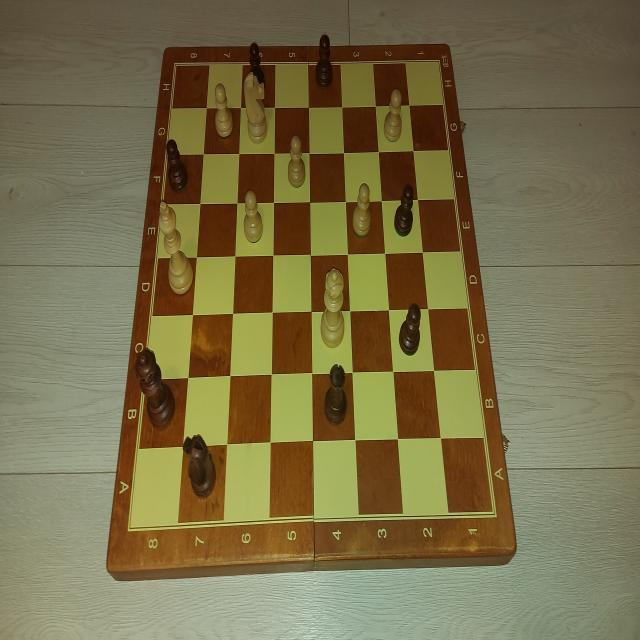chess-table-corners: (116, 501, 145, 547), (481, 485, 508, 533), (428, 50, 446, 78), (167, 52, 184, 80)
